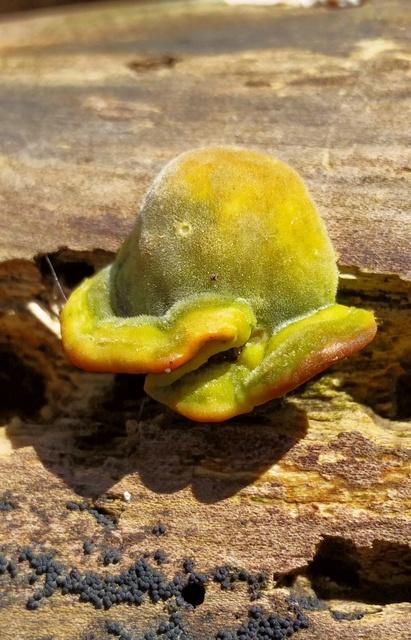poisonous_mushroom: (57, 142, 378, 423)
